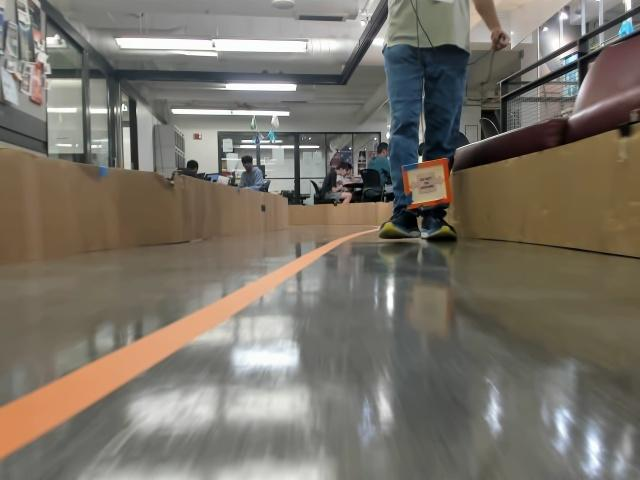Do Not Go Around: (408, 178, 440, 196)
